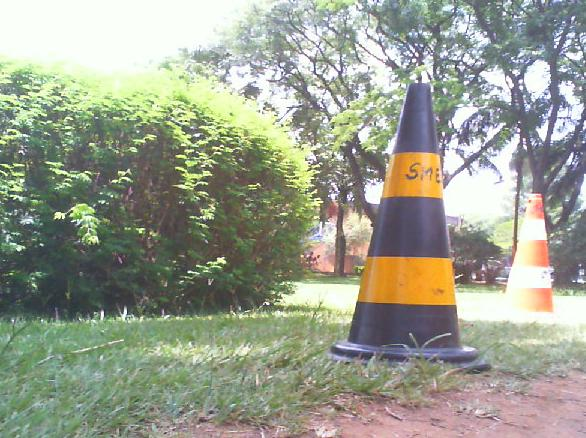0 cone: (320, 82, 492, 376), (498, 194, 559, 322)
